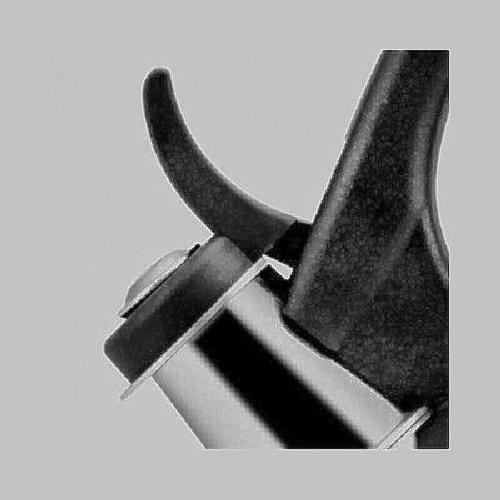kettle: (123, 61, 446, 447)
